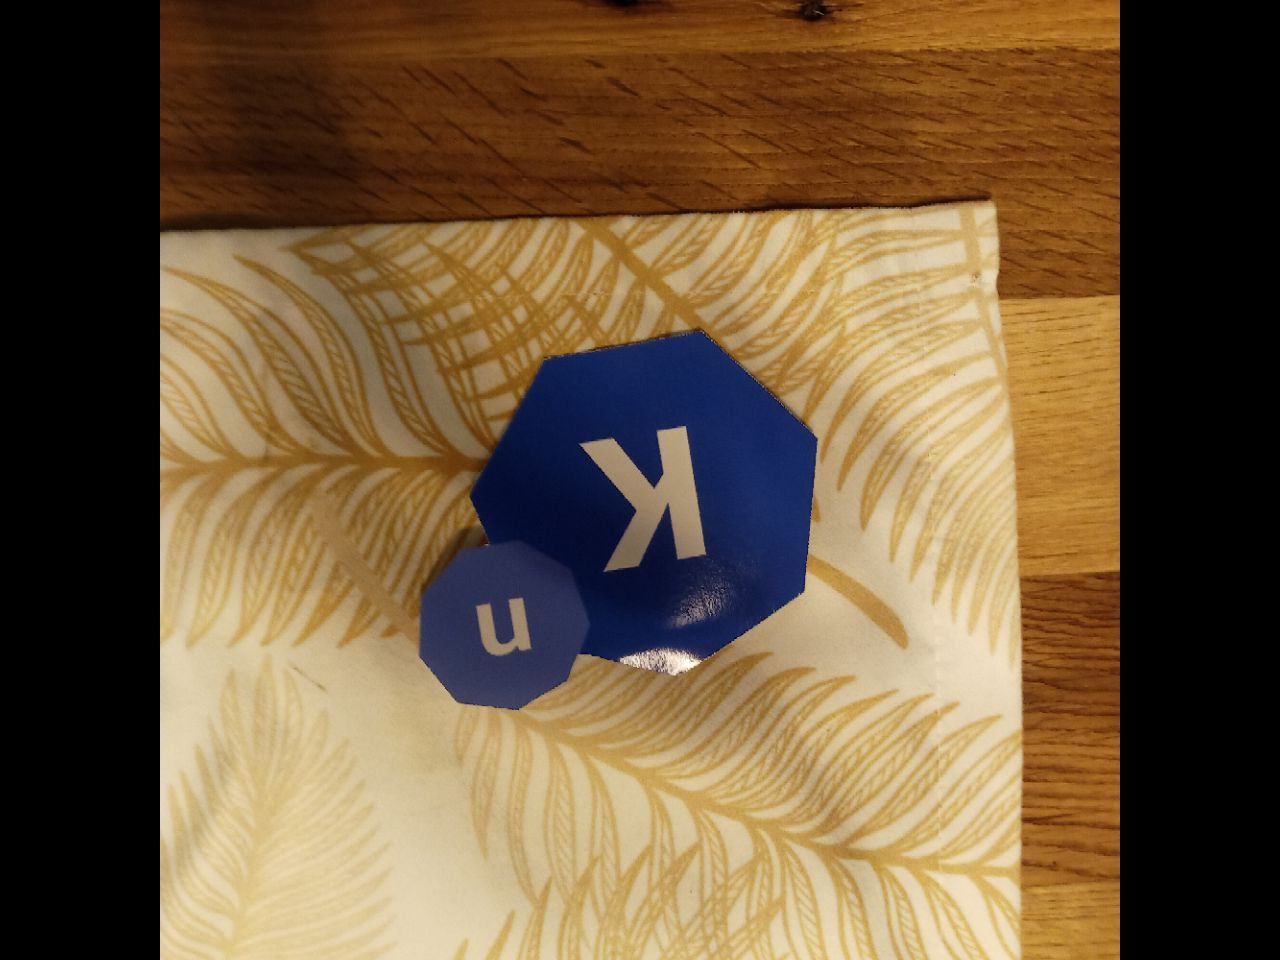knative: (418, 321, 820, 712)
